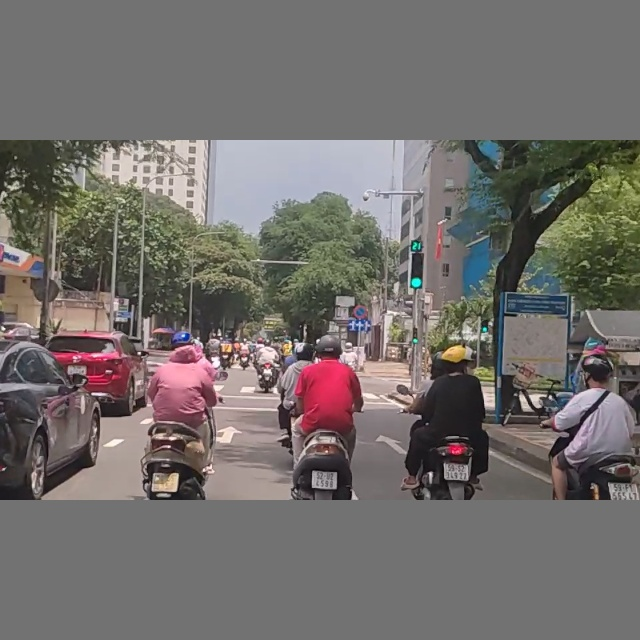P.130: (352, 305, 369, 320)
